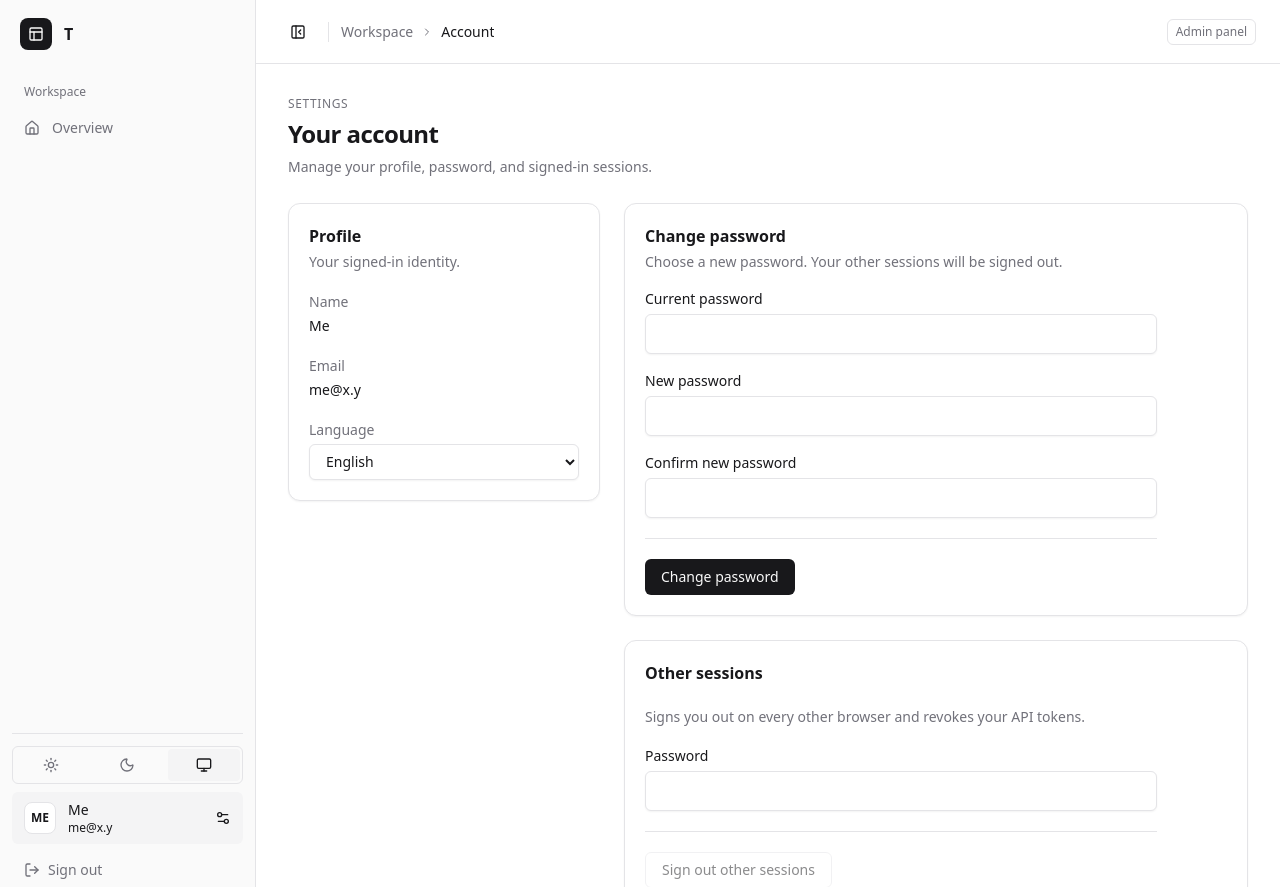
pauses account changes after one with an unknown outcome
Step 1. Type "long enough" into the password field labelled "New password" → (901, 416), box [645,396,1157,436]
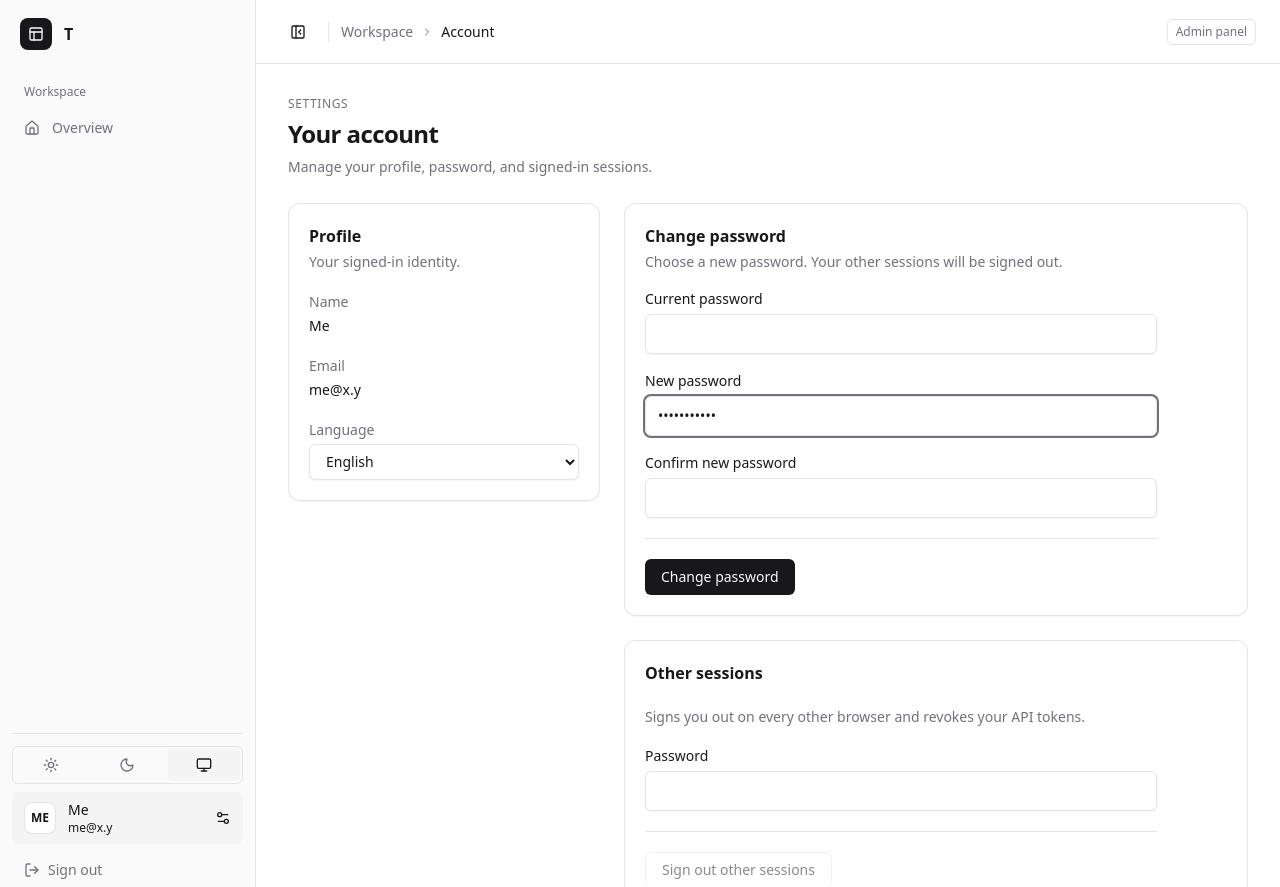
Step 2. Click the button "Change password" → (720, 577), box [645,559,795,595]
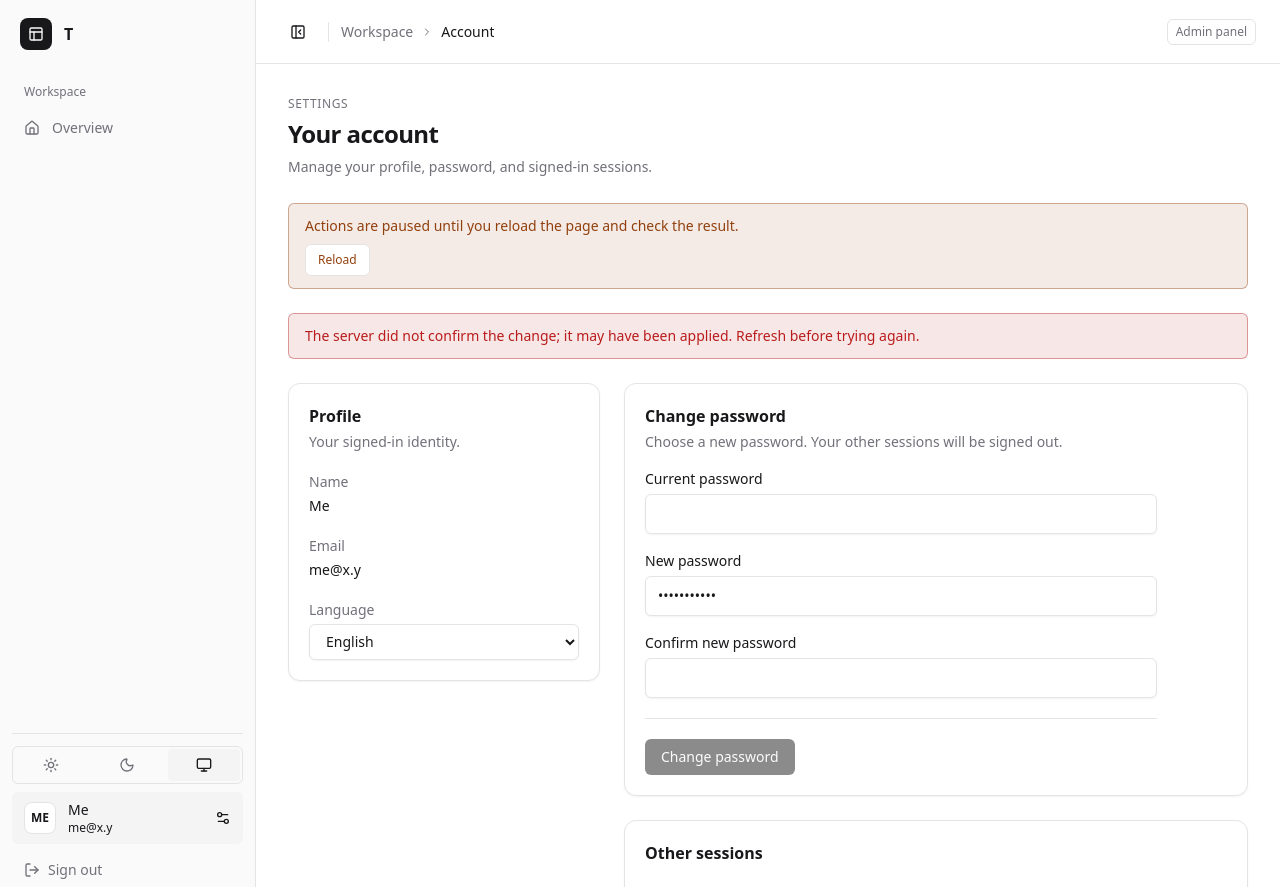
Check: the text "Actions are paused" is shown, box [305,216,738,235]
Check: the button "Change password" is disabled, box [645,739,795,775]
